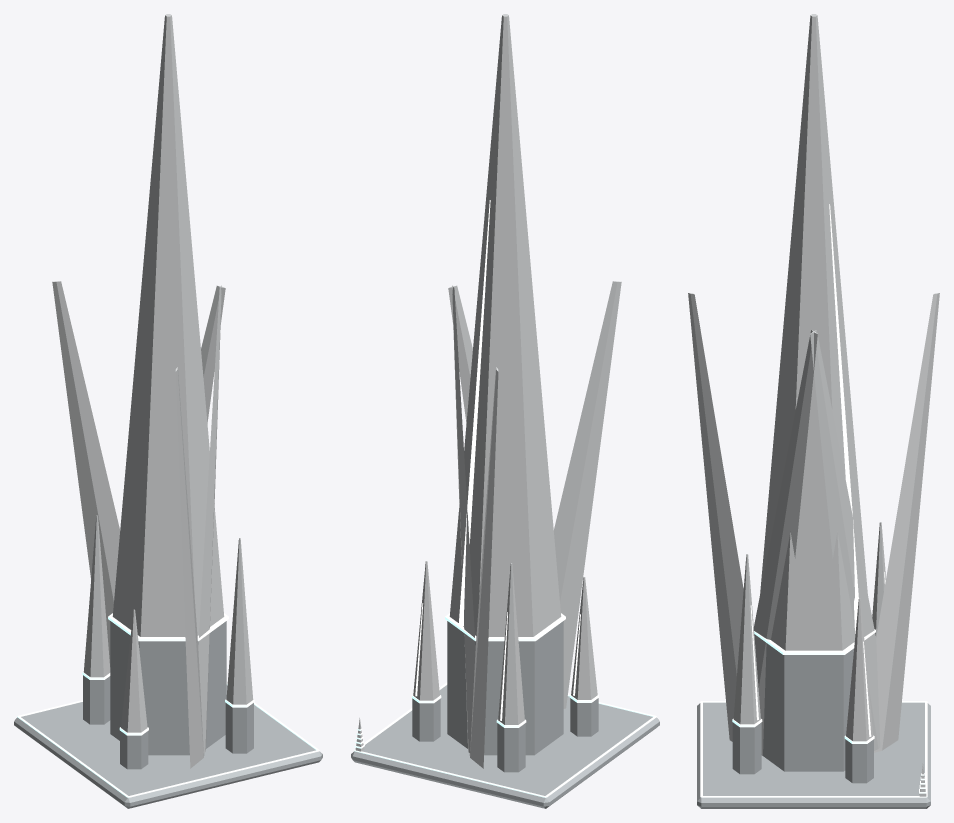
File: zone_high_4_t5.glb
3 views of the same model, side by side, from view 1: azimuth 30°, elevation 25°; view 2: azimuth 150°, elevation 25°; view 3: azimuth 270°, elevation 25° (orthographic). The views are drawn at different scales.
Visible parts, largest first — view 1: zone_high_4_t5, detail; view 2: zone_high_4_t5, detail; view 3: zone_high_4_t5, detail.
Part boxes in pixels (left/top/right/bottom): zone_high_4_t5: left=14, top=14, right=322, bottom=808; detail: left=17, top=682, right=319, bottom=797; zone_high_4_t5: left=351, top=14, right=659, bottom=808; detail: left=354, top=682, right=656, bottom=797; zone_high_4_t5: left=688, top=14, right=939, bottom=808; detail: left=700, top=701, right=927, bottom=797.
Bounding box in the file's own units: 27.5 × 97.16 × 29.59.
